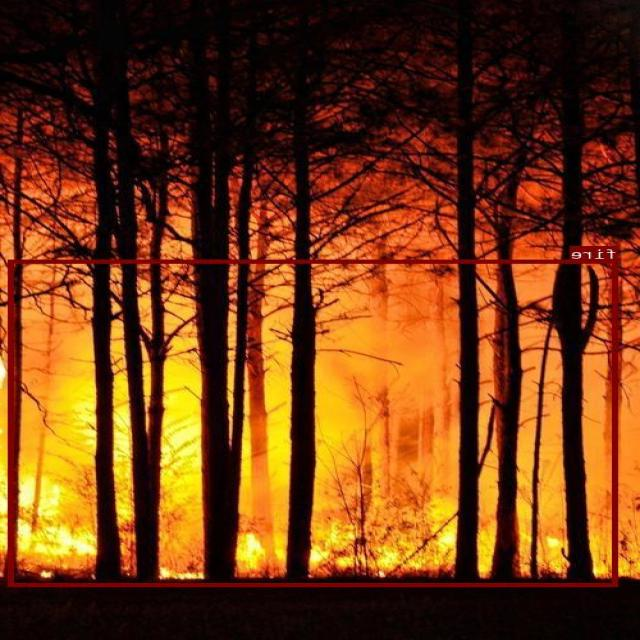fire: (10, 259, 619, 586)
